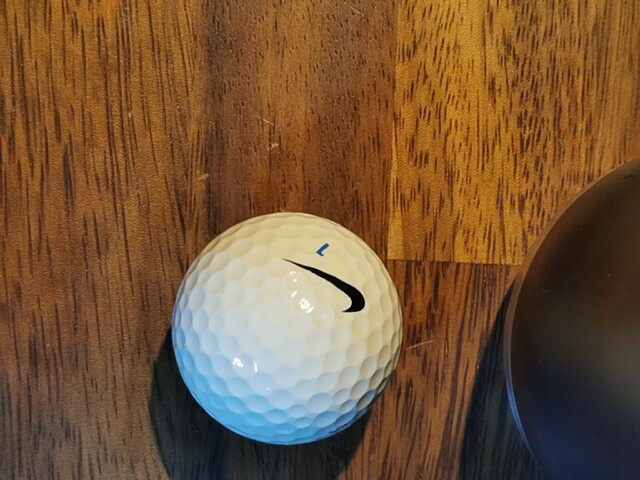Ball: (171, 212, 404, 446)
Nike: (282, 258, 366, 313)
